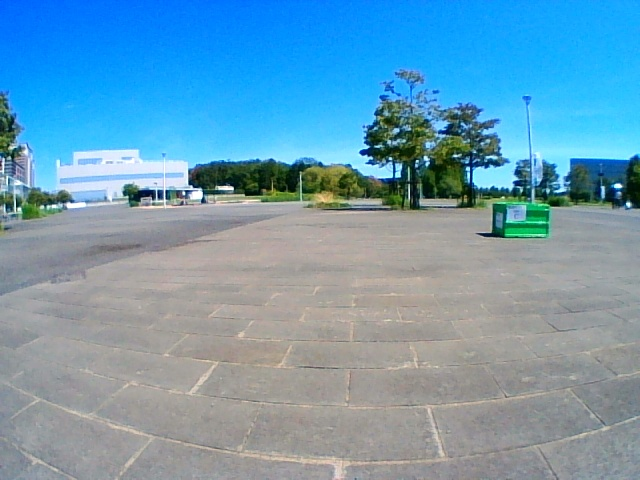green_box: (493, 202, 549, 238)
tag: (506, 206, 525, 221)
